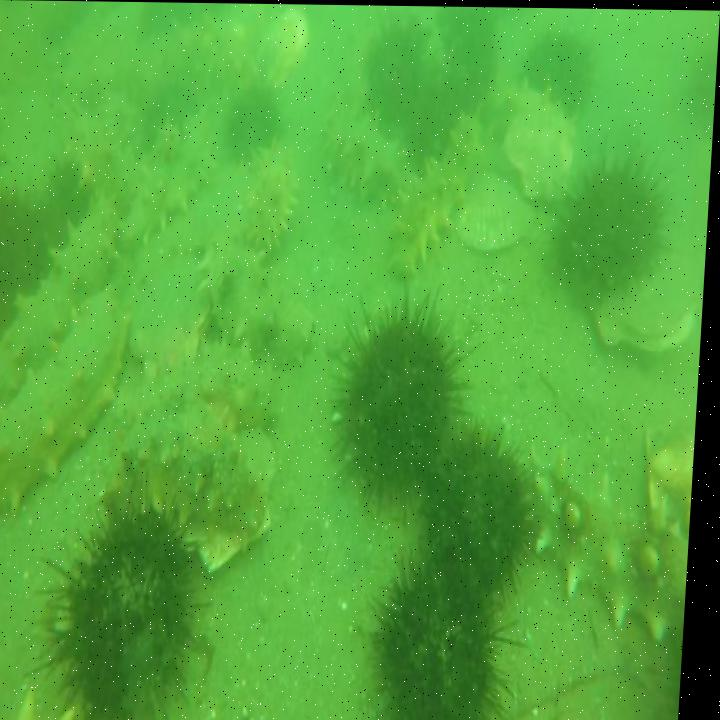echinus: (30, 491, 227, 720), (317, 279, 485, 511), (369, 520, 537, 720), (425, 405, 548, 601), (544, 143, 684, 307), (355, 11, 433, 128), (400, 60, 467, 170), (0, 187, 54, 321), (519, 21, 600, 108), (436, 12, 503, 107), (37, 154, 94, 257), (223, 82, 284, 169), (683, 46, 718, 140)
holothurian: (519, 442, 699, 650), (0, 285, 133, 521), (0, 192, 122, 441), (106, 405, 283, 549), (198, 232, 326, 377), (383, 110, 490, 273), (141, 331, 288, 434), (320, 86, 414, 206), (164, 78, 230, 219), (237, 138, 307, 258), (122, 123, 185, 251), (480, 78, 562, 133)
scallop: (588, 243, 709, 360), (132, 249, 228, 368), (501, 102, 584, 204), (640, 404, 702, 540), (453, 165, 541, 255), (180, 511, 286, 578), (254, 3, 312, 91)
